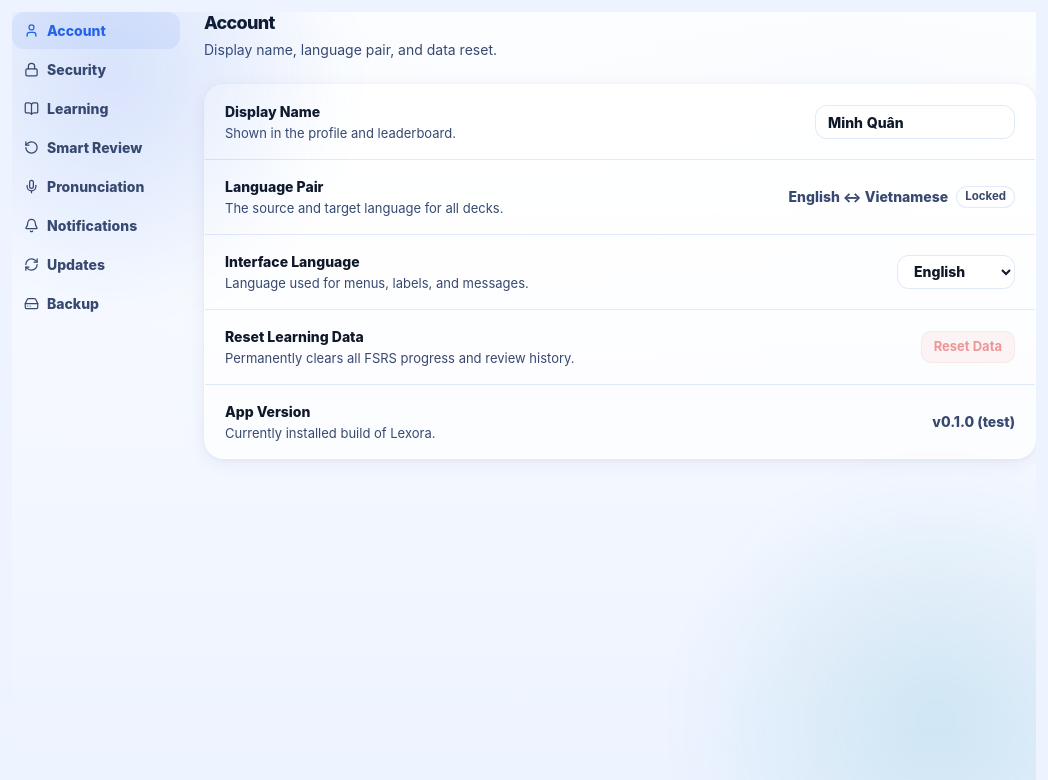
Scenario: SettingsPage › runs a dev/test update check from Settings
The image size is (1048, 780).
Click the button "Updates": (96, 264) 12,246 -> 180,283
(page scrolled)
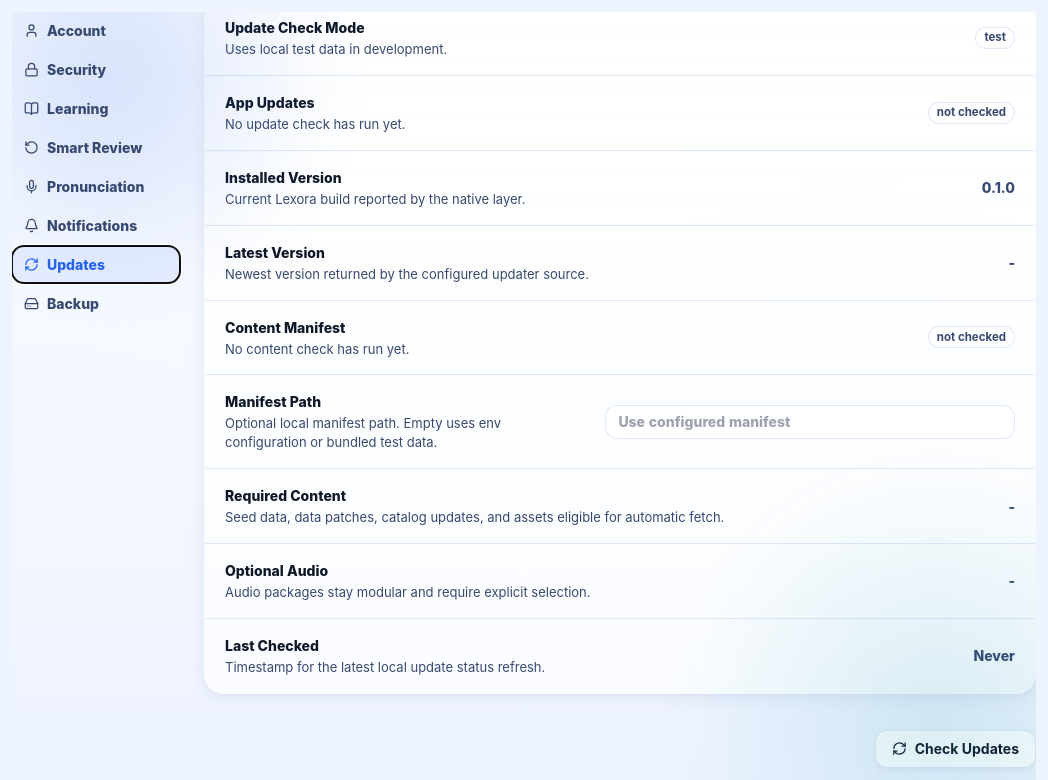
Click the button "Check Updates": (955, 749) 875,730 -> 1036,768
(page scrolled)
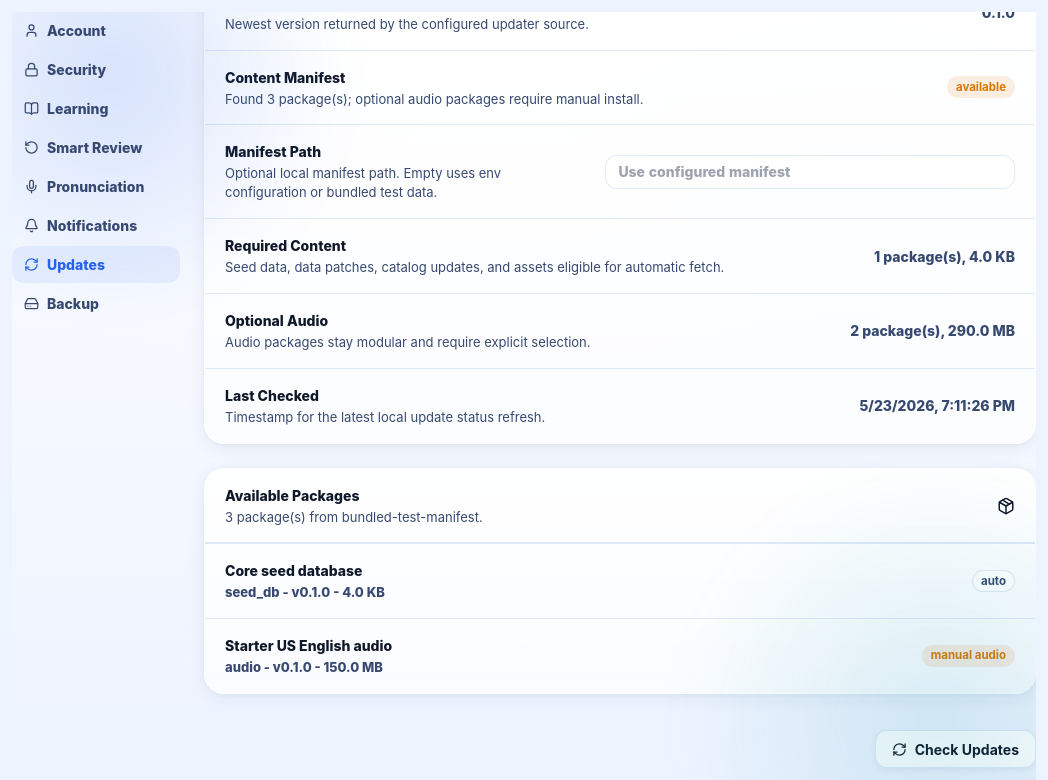
Expected: the text "Starter US English audio" is shown, 225,637 -> 392,654
Expected: the text "manual audio" is shown, 922,645 -> 1015,667
